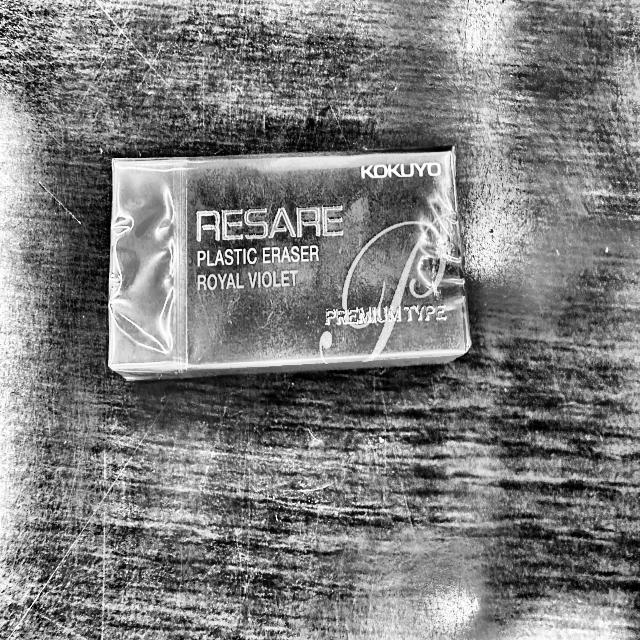eraser: (106, 143, 472, 382)
